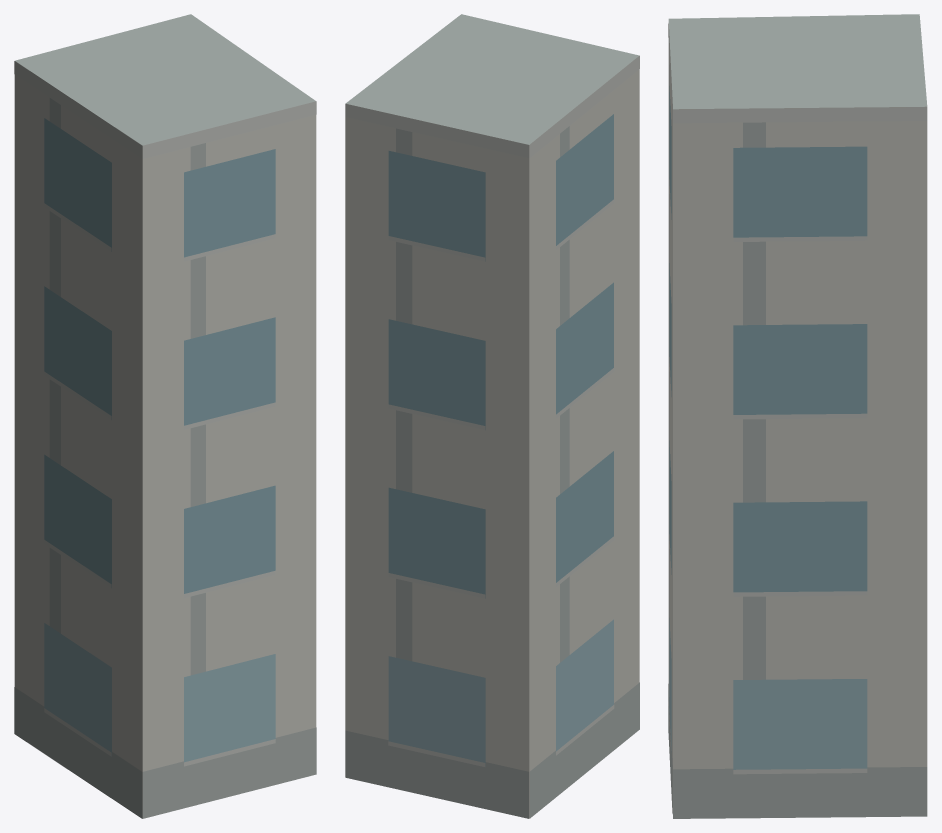
Rendered from survey-upis-32623376.glb.
3 renders of one model, left to right at view 1: azimuth 30°, elevation 25°; view 2: azimuth 150°, elevation 25°; view 3: azimuth 270°, elevation 25°, orthographic. The views are drawn at different scales.
Parts seen in each view (by area): view 1: survey-upis-32623376.tmp; view 2: survey-upis-32623376.tmp; view 3: survey-upis-32623376.tmp.
Boxes of the visible parts, left/top/right/bottom form: survey-upis-32623376.tmp: left=14, top=14, right=316, bottom=818; survey-upis-32623376.tmp: left=345, top=14, right=639, bottom=818; survey-upis-32623376.tmp: left=668, top=14, right=927, bottom=818.
Size of the model in its own units: 3.52 by 12.2 by 4.04.
